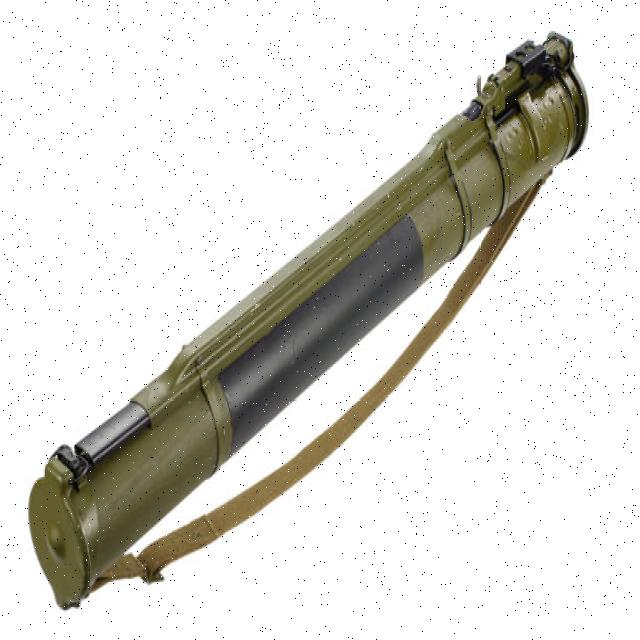bazooka: (29, 28, 599, 620)
